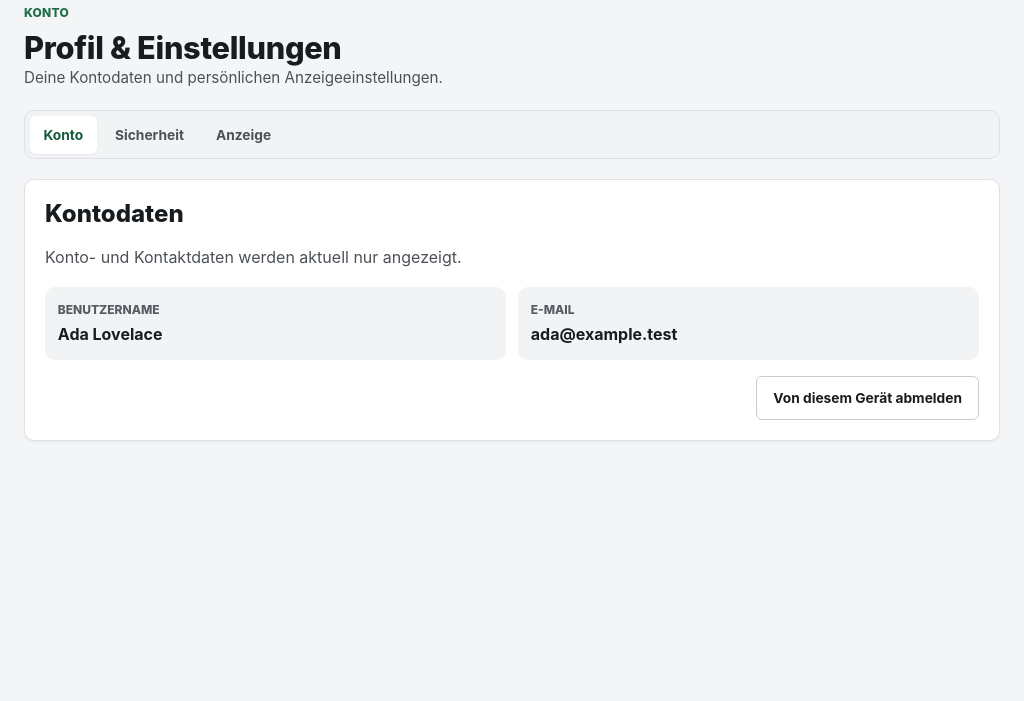
Test: ProfileView › revokes an open e-mail change request after confirmation
Click the tab "Sicherheit". click: (150, 135)
box: x1=102 y1=116 x2=198 y2=154
(page scrolled)
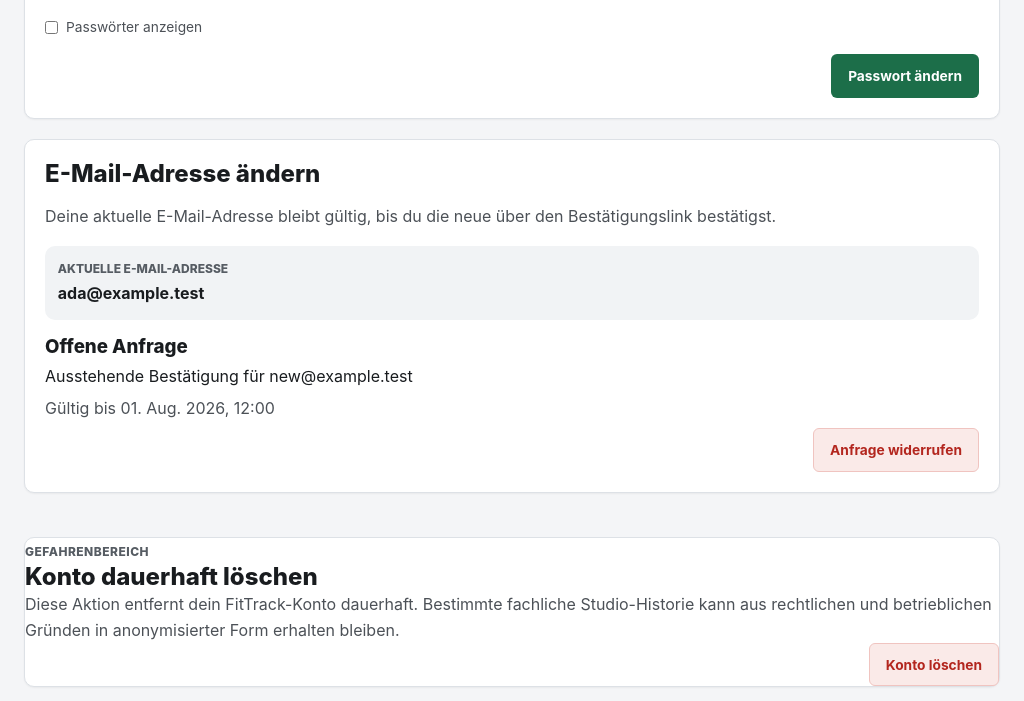
Click the button "Anfrage widerrufen". click: (896, 450)
box: x1=813 y1=428 x2=979 y2=472
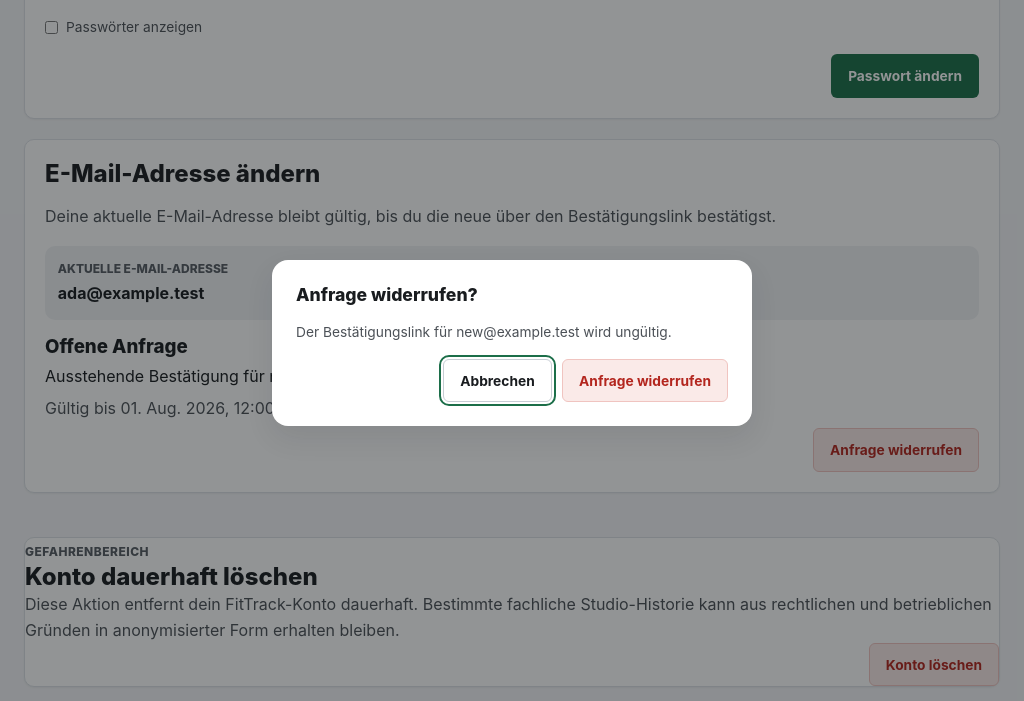
Click the button with class "btn-danger" showing "Anfrage widerrufen". click: (645, 381)
box: x1=562 y1=359 x2=728 y2=402
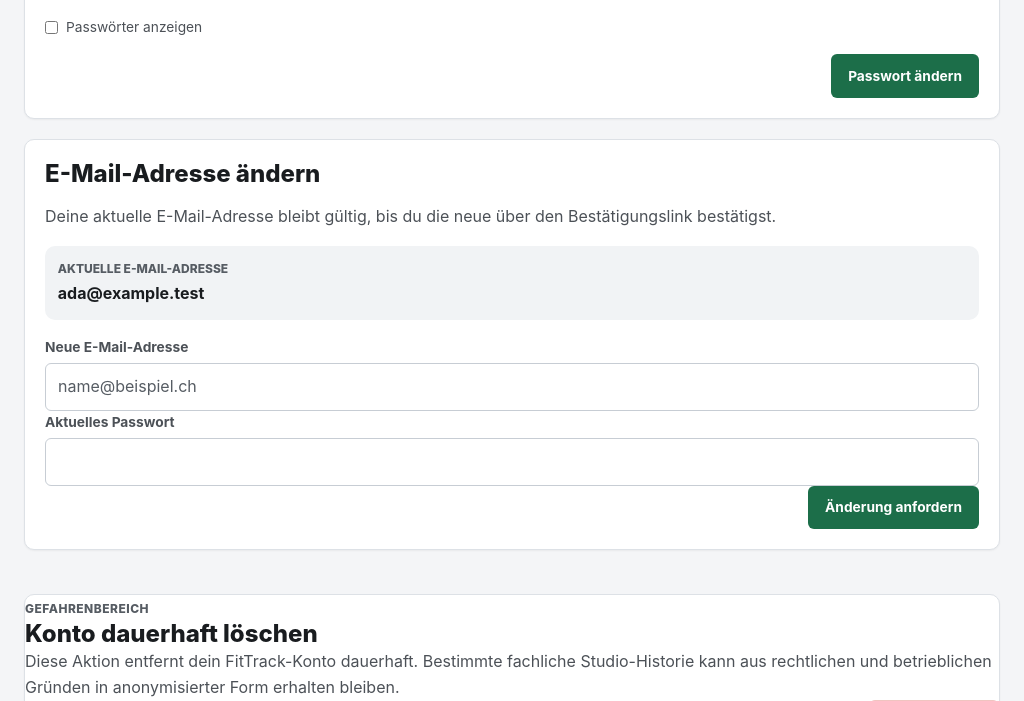
Now the field with id "new-email" is shown, box x1=45 y1=363 x2=979 y2=411
